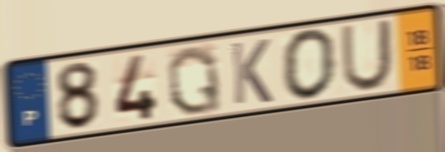4: (113, 51, 160, 123)
8: (53, 60, 102, 132)
K: (228, 37, 275, 108)
O: (279, 26, 339, 103)
Q: (164, 43, 224, 118)
U: (339, 16, 394, 94)
